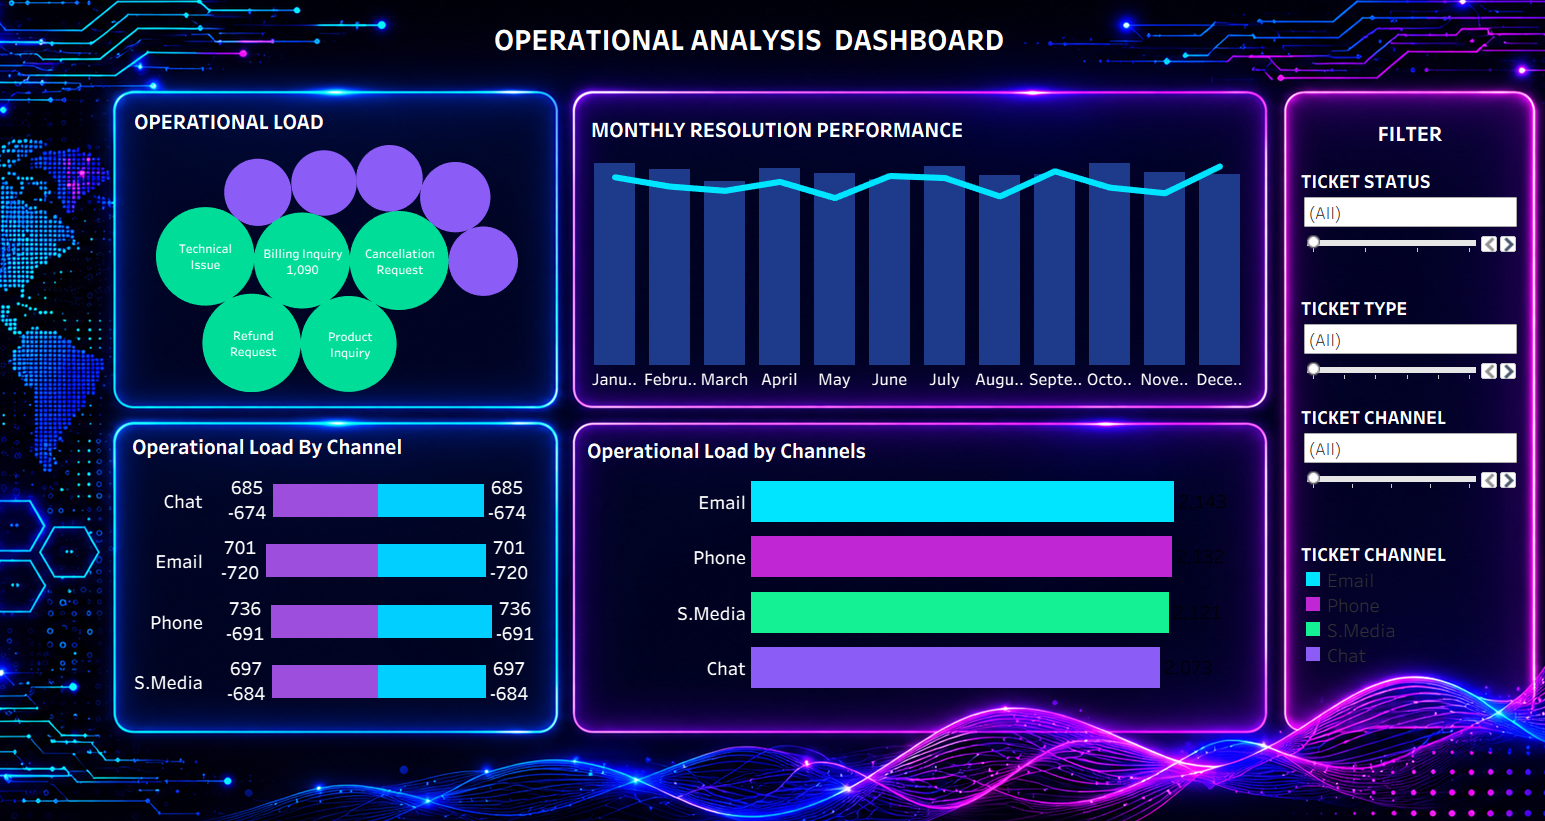

The page's visual inventory and layout, read from the dashboard file:
{"tool":"tableau","page":{"name":"Operational Dashboard","canvas":[1000,1000],"units":"permille","ordinal":2},"visuals":[{"type":"image","param":"C:/Users/Hassan - Work/Desktop/customer and operational 1630x866.png","box":[5,9.2,990,981.5]},{"type":"text","box":[240.7,26.6,498.8,82]},{"type":"worksheet","title":"Operational Load Efficency","mark":"Circle","box":[100.6,137.4,263.9,343]},{"type":"worksheet","title":"Monthly Resolution Performance","mark":"Automatic","rows":["Ticket ID","Has_CSAT"],"cols":["Date of Purchase"],"box":[386.5,146.7,418.3,332.6]},{"type":"text","box":[848.7,151.3,110.1,49.6]},{"type":"filter","title":"Operational Load by Channels","param":"[federated.0f0wlw01rlkplj13ylz9h1a8ayd3].[none:Ticket Status:nk]","box":[832.9,212.5,141.8,146.7]},{"type":"filter","title":"Operational Load by Channels","param":"[federated.0f0wlw01rlkplj13ylz9h1a8ayd3].[none:Ticket Type:nk]","box":[832.9,359.1,141.8,125.9]},{"type":"filter","title":"Operational Load by Channels","param":"[federated.0f0wlw01rlkplj13ylz9h1a8ayd3].[none:Ticket Channel:nk]","box":[832.9,485,141.8,158.2]},{"type":"worksheet","title":"Operational Load by Ticket","mark":"Bar","rows":["Ticket Channel"],"cols":["Calculation_0491212645912578","Calculation_0491212646014979"],"box":[99.4,512.7,269,337.2]},{"type":"worksheet","title":"Operational Load by Channels","mark":"Automatic","rows":["Ticket Channel"],"cols":["Ticket ID"],"box":[384.2,517.3,423.4,312.9]},{"type":"legend","title":"Operational Load by Channels","param":"[federated.0f0wlw01rlkplj13ylz9h1a8ayd3].[none:Ticket Channel:nk]","box":[832.9,643.2,141.8,154.7]}]}

Visuals, with their boxes on the dashboard's canvas, which has no fixed pixel size, in thousandths of its width and height (x1, y1, x2, y2). These are canvas units, not pixel positions in the 1545x821 screenshot, which may show the page scaled, cropped or inside an application window:
image: bbox=(5, 9, 995, 991)
text: bbox=(241, 27, 740, 109)
"Operational Load Efficency" worksheet (Circle marks): bbox=(101, 137, 364, 480)
"Monthly Resolution Performance" worksheet: bbox=(386, 147, 805, 479)
text: bbox=(849, 151, 959, 201)
"Operational Load by Channels" filter: bbox=(833, 212, 975, 359)
"Operational Load by Channels" filter: bbox=(833, 359, 975, 485)
"Operational Load by Channels" filter: bbox=(833, 485, 975, 643)
"Operational Load by Ticket" worksheet (Bar marks): bbox=(99, 513, 368, 850)
"Operational Load by Channels" worksheet: bbox=(384, 517, 808, 830)
"Operational Load by Channels" legend: bbox=(833, 643, 975, 798)
